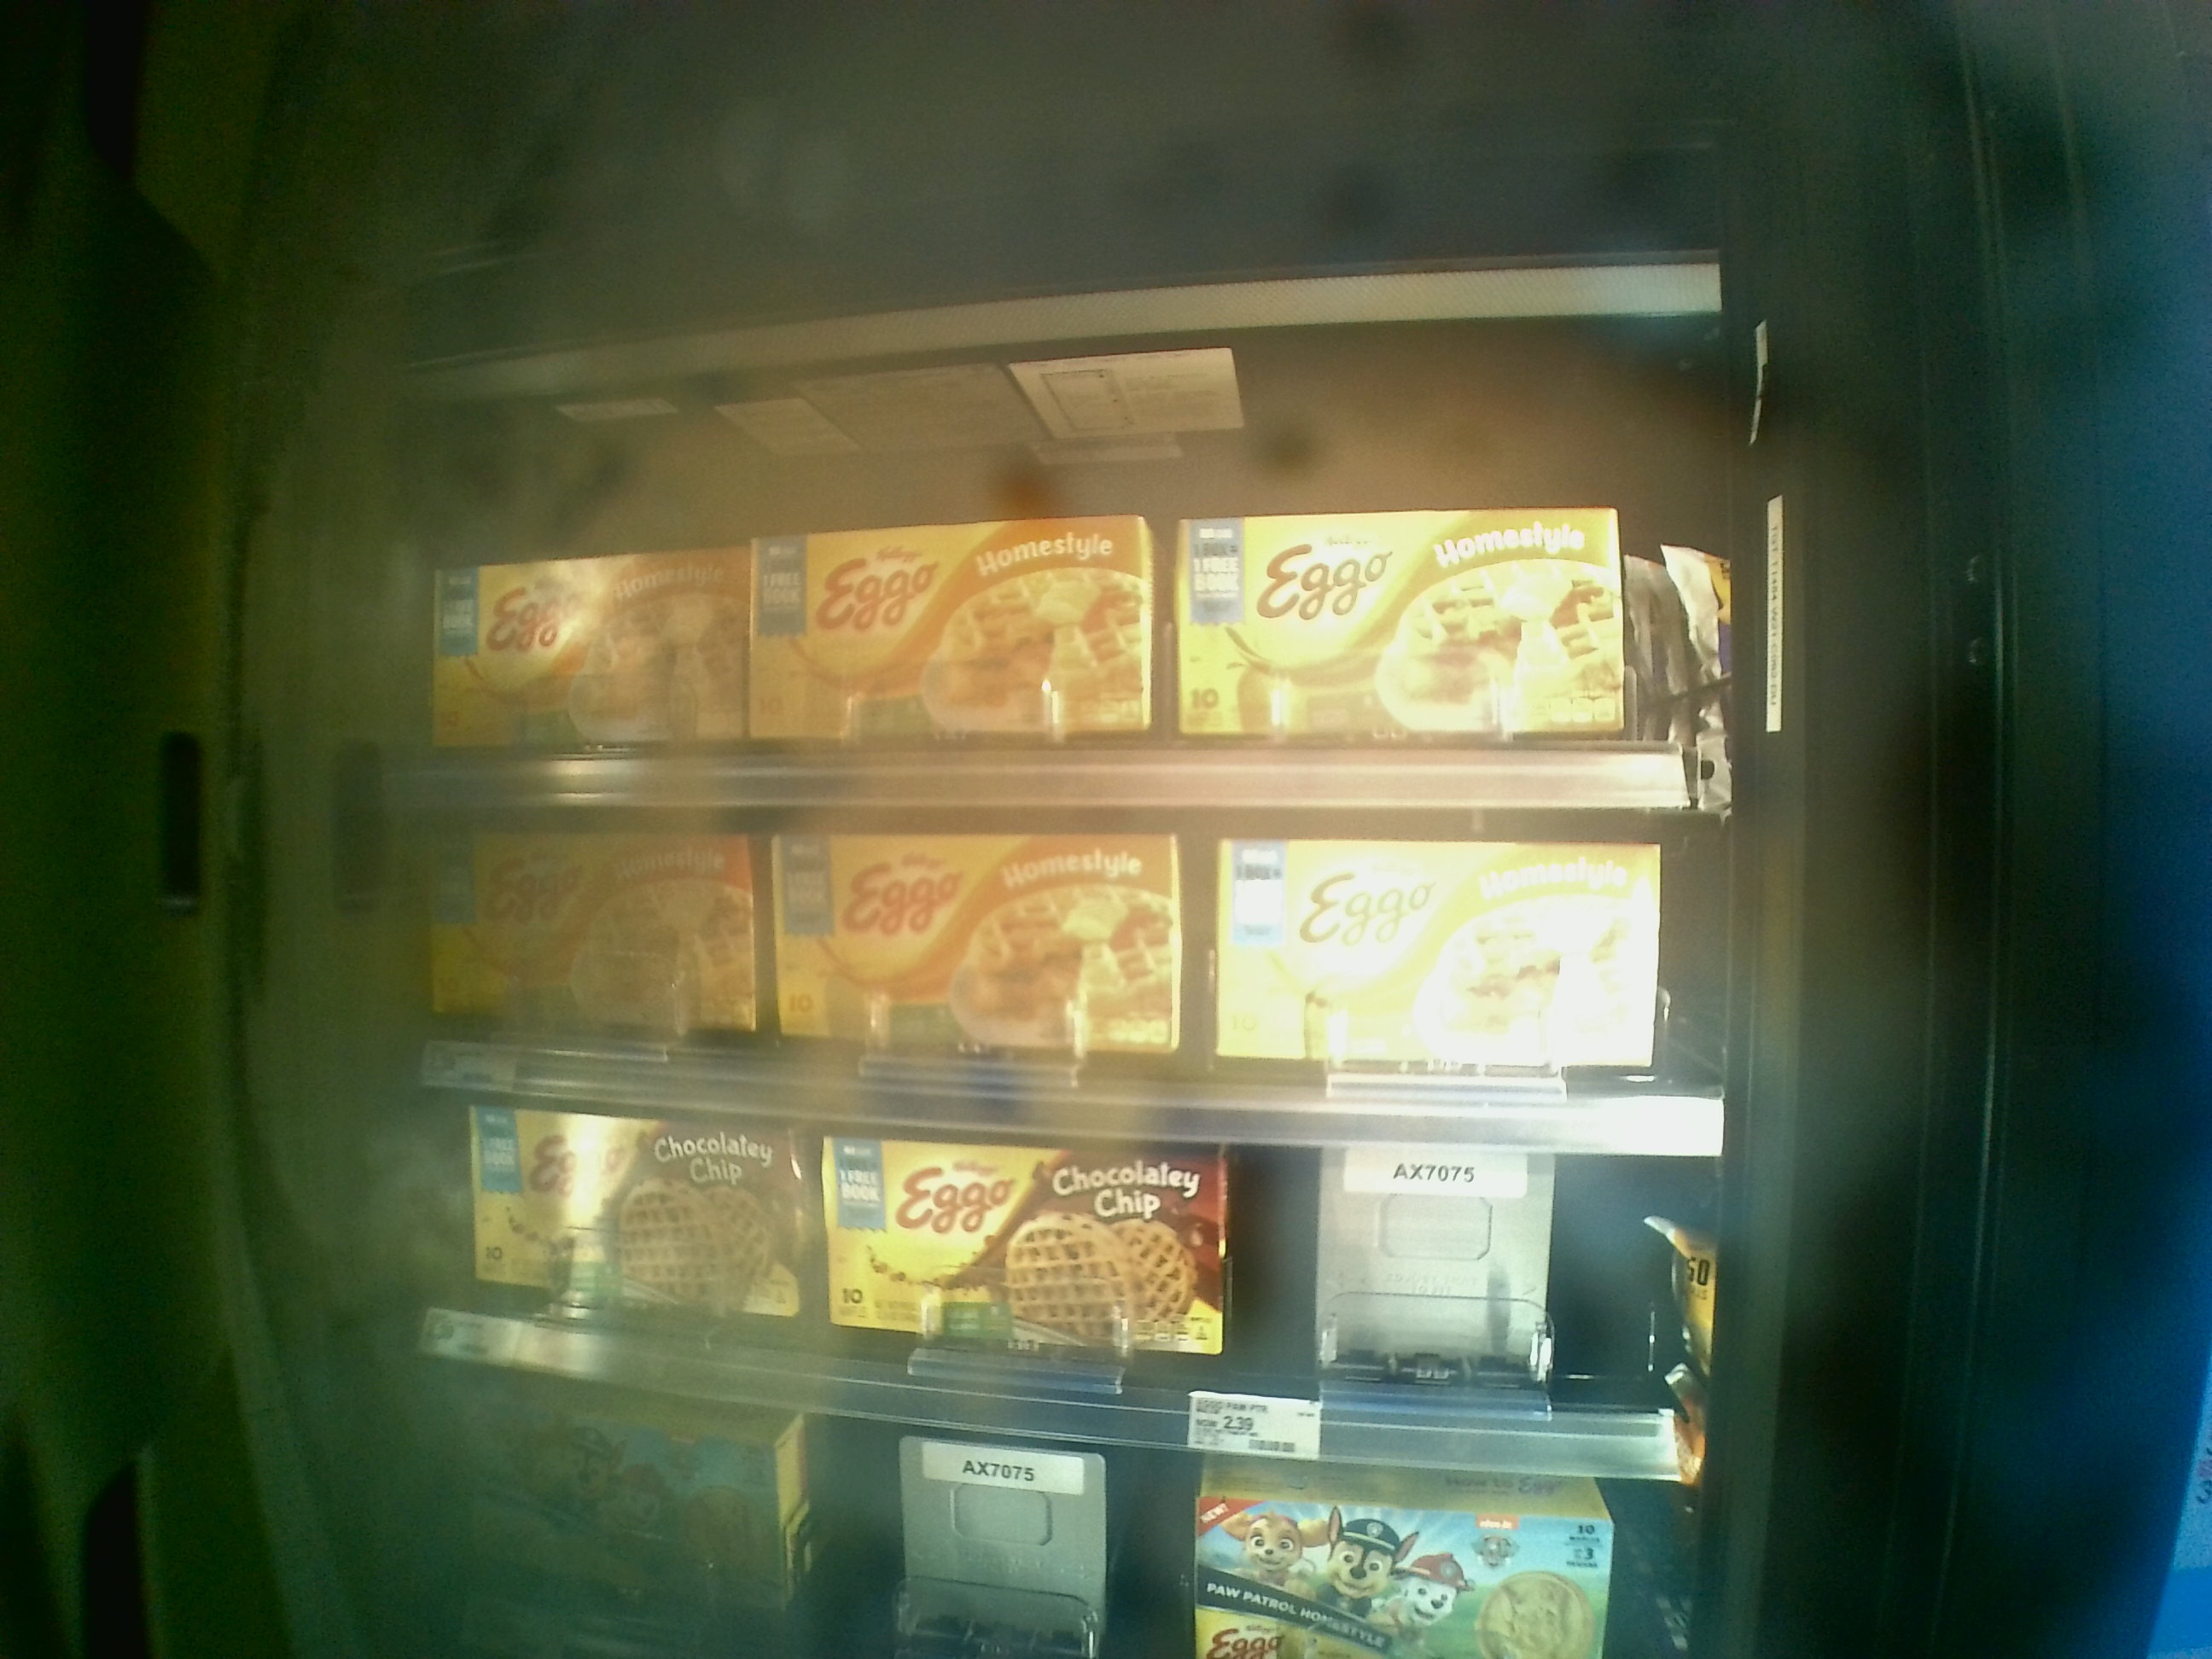shelf: (381, 455, 1719, 814), (387, 817, 1730, 1150)
